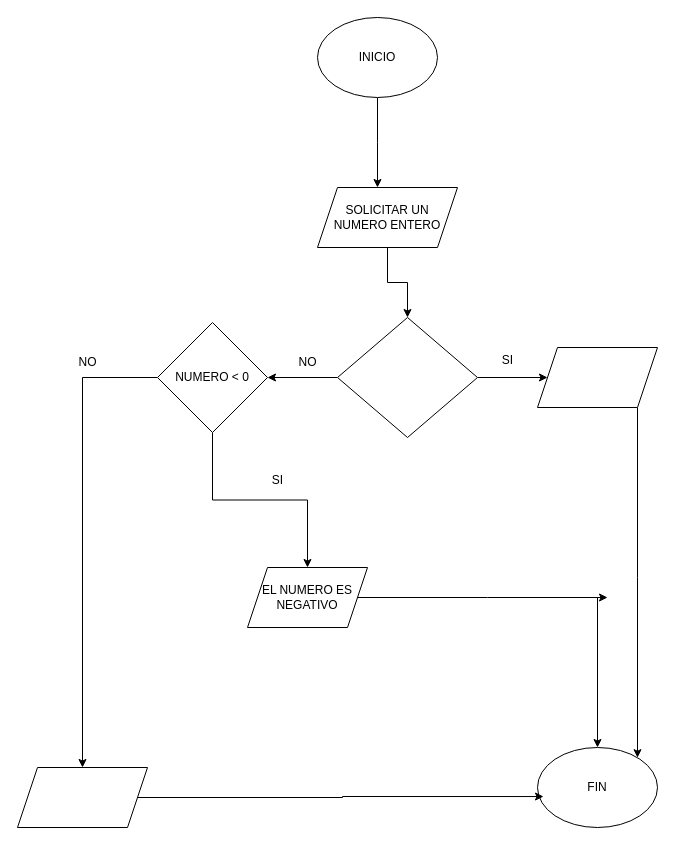
This 675x845 diagram has some shape labels left out. The box of each missing label's shape, as (x1, y1, x2, y2) in pixels:
EL NUMERO ES 0: (16, 766, 148, 828)
EL NUMERO ES POSITIVO: (536, 346, 658, 408)
NUMERO > 0: (336, 316, 478, 438)
